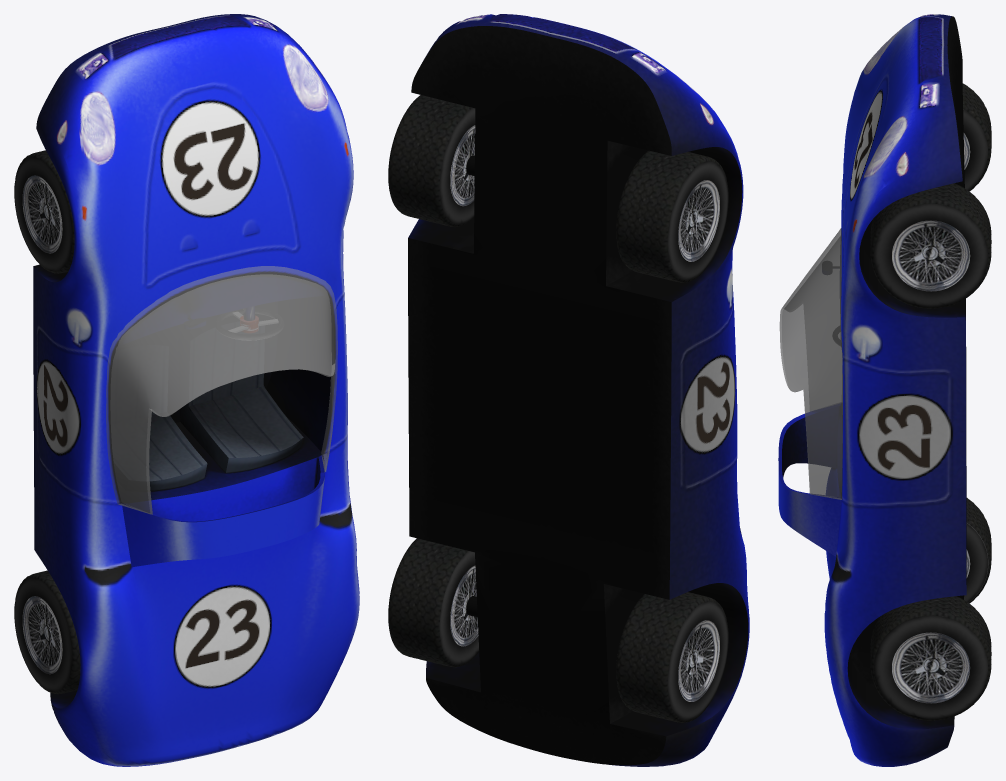
The model's file is 10603_slot_car_blue_SG_v1_iterations-2.obj.
3 views of the same model, side by side, from view 1: azimuth 30°, elevation 25°; view 2: azimuth 150°, elevation 25°; view 3: azimuth 270°, elevation 25° (orthographic). The views are drawn at different scales.
Visible parts, largest first — view 1: 10604_slot_car_blue, 10604_slot_car_red_glass; view 2: 10604_slot_car_blue; view 3: 10604_slot_car_blue, 10604_slot_car_red_glass.
Boxes of the visible parts, <box> form: 10604_slot_car_blue: <box>14,14,359,766</box>; 10604_slot_car_red_glass: <box>106,266,337,514</box>; 10604_slot_car_blue: <box>388,14,749,766</box>; 10604_slot_car_blue: <box>778,14,991,766</box>; 10604_slot_car_red_glass: <box>779,228,842,499</box>.
Bounding box in the file's own units: 2.05 × 4.96 × 1.39.
Materials: 2 (1 with a texture image).
